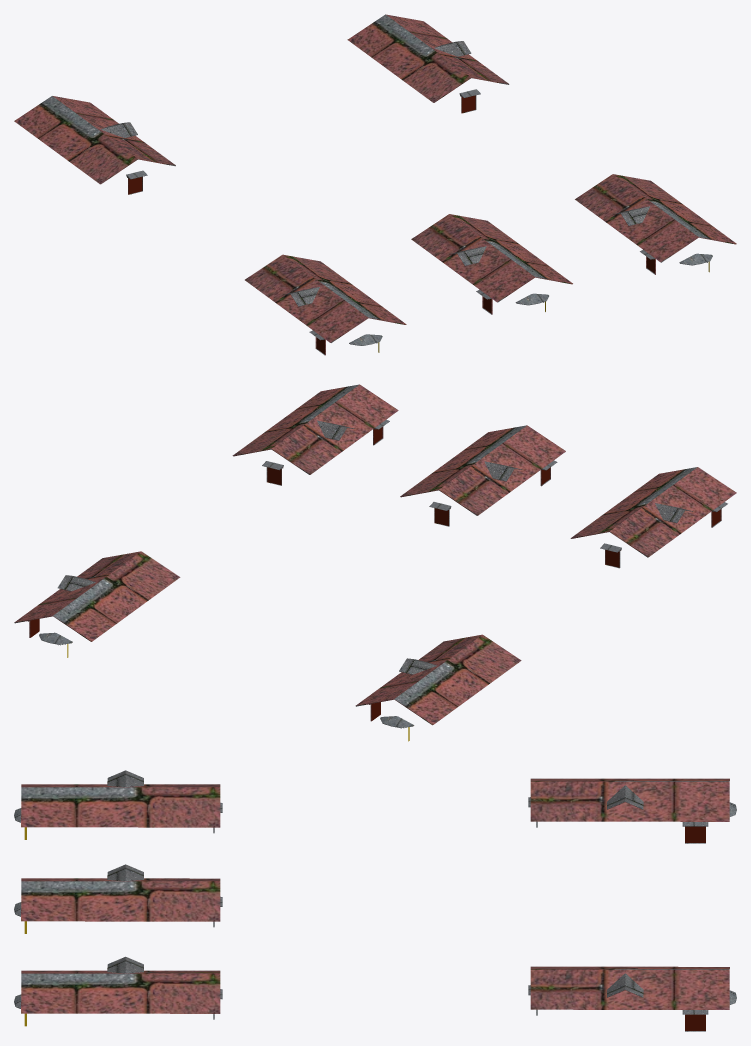
Rendered from techosCasas.obj.
3 views of the same model, one above another, from view 1: azimuth 30°, elevation 25°; view 2: azimuth 150°, elevation 25°; view 3: azimuth 270°, elevation 25° (orthographic). The views are drawn at different scales.
Parts seen in each view (by area): view 1: Cube.035; view 2: Cube.035; view 3: Cube.035.
Part boxes in pixels (x1,y1,x2,y2): Cube.035: [14, 14, 736, 355]; Cube.035: [14, 384, 736, 741]; Cube.035: [14, 770, 736, 1031].
Size of the model in its own units: 67.53 by 6.13 by 87.74.
